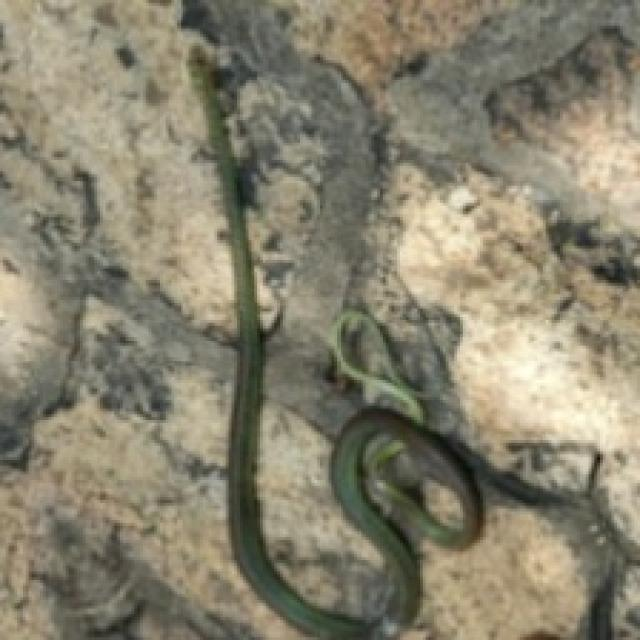paradise tree snake: (189, 46, 574, 637), (189, 46, 480, 637)
